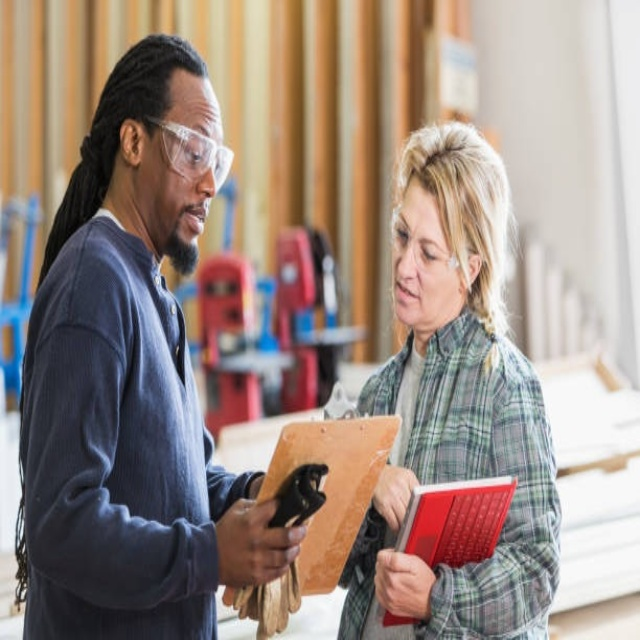Gafas: (146, 117, 234, 192), (390, 212, 467, 274)
Sin_guantes: (218, 494, 309, 590), (372, 547, 435, 623), (371, 462, 422, 533)
Sin_mascara: (166, 199, 210, 256), (390, 275, 426, 318)
